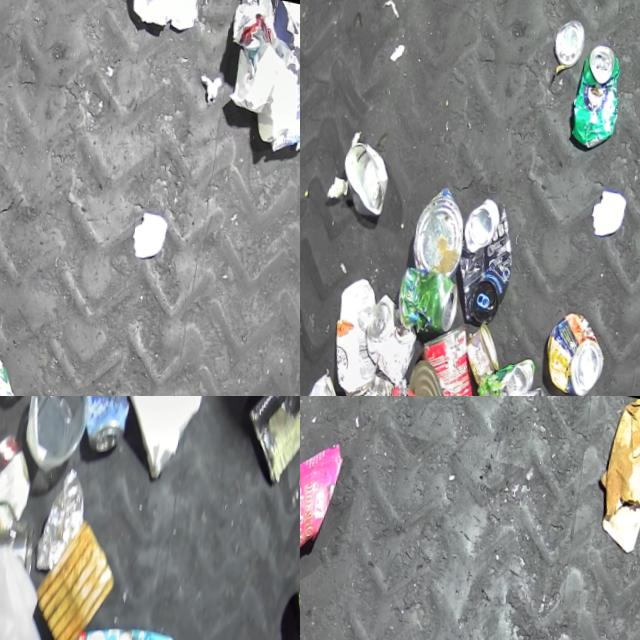can: (450, 187, 524, 322), (407, 311, 491, 396), (568, 31, 629, 146), (541, 301, 612, 394), (361, 287, 426, 384), (0, 415, 47, 549), (409, 177, 473, 272), (234, 396, 300, 481), (397, 259, 465, 334), (337, 130, 396, 213), (67, 396, 136, 457), (476, 342, 538, 396), (462, 315, 508, 383), (394, 353, 463, 396), (551, 9, 587, 63), (300, 366, 348, 396)
milk_jug: (0, 528, 86, 640)
